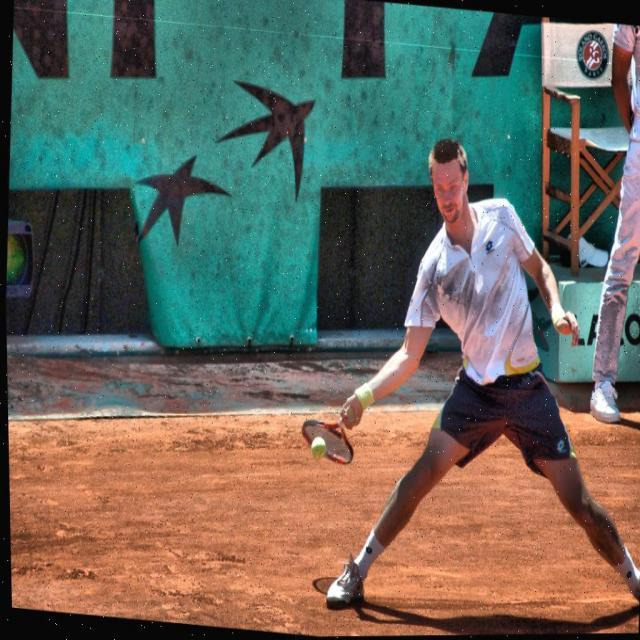tennis-ball: (306, 431, 326, 464)
